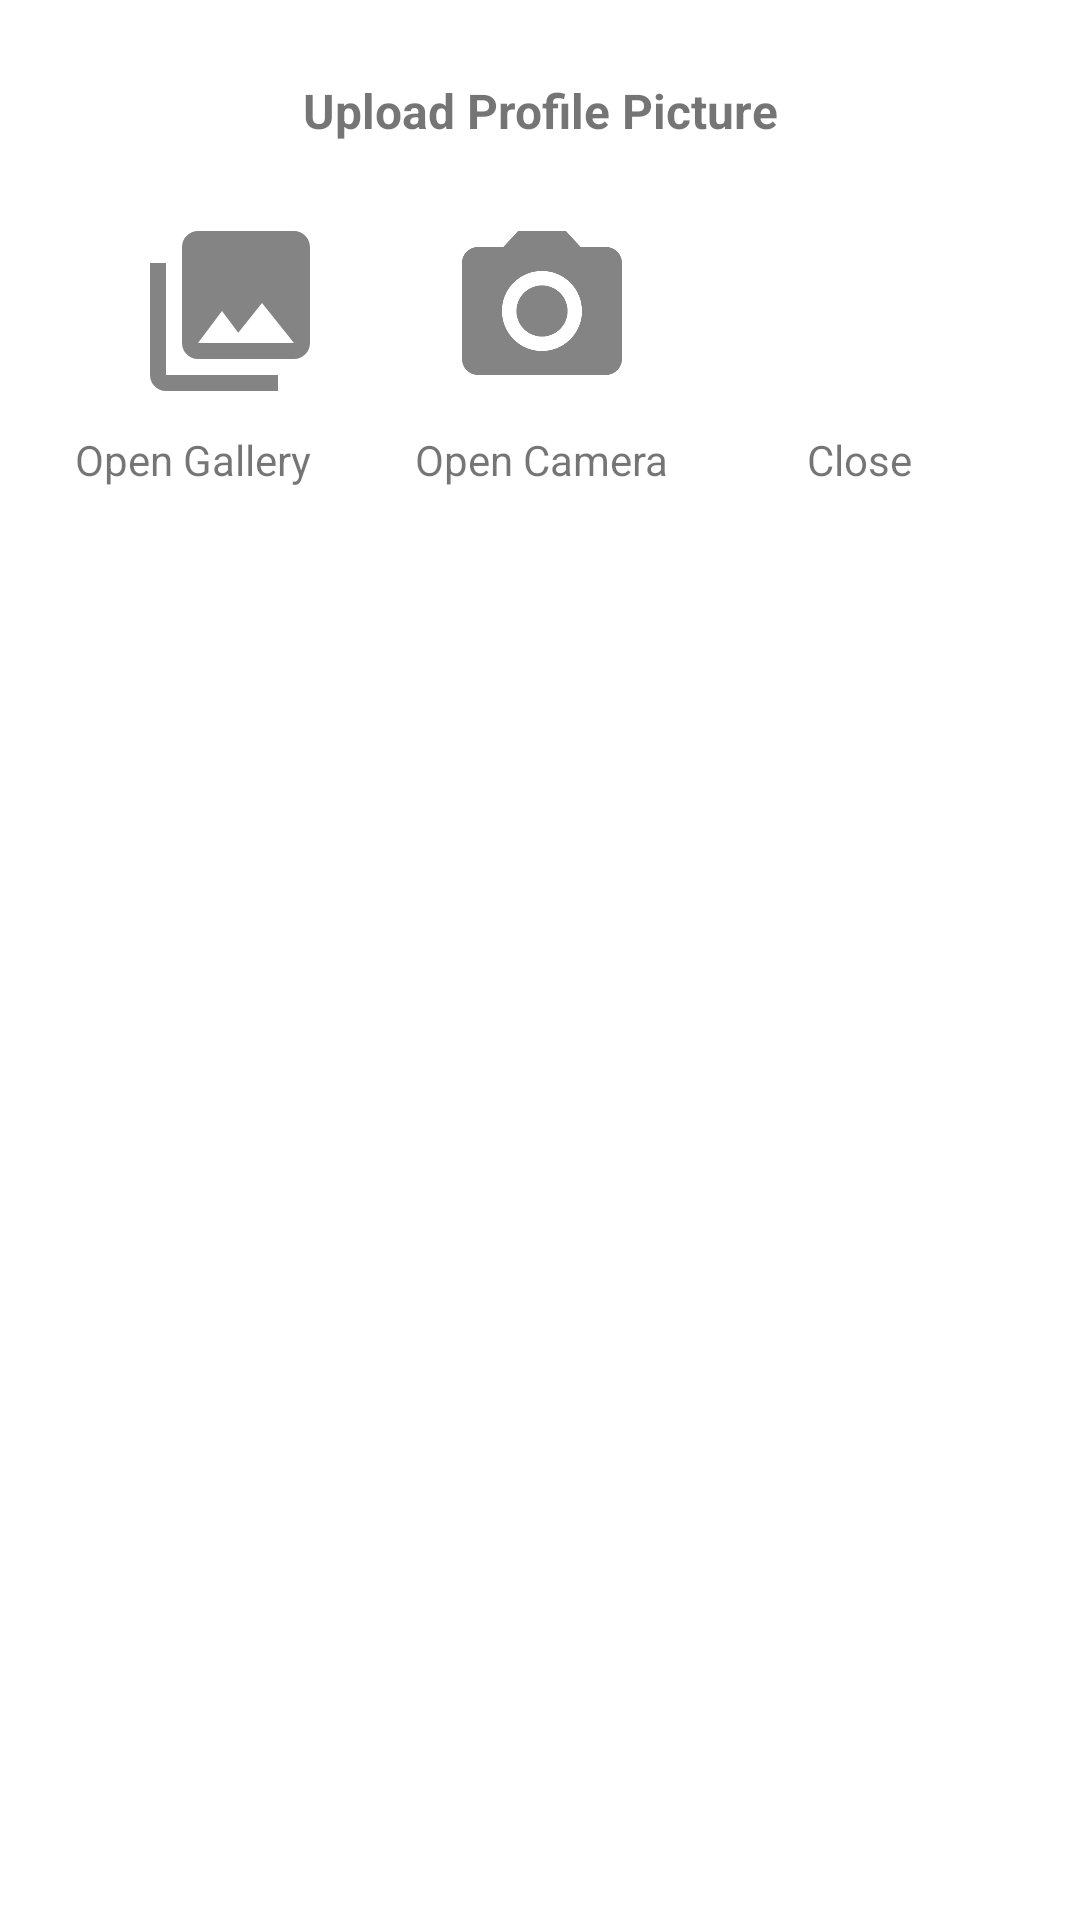

Icons on this 1080x1920 Android screen, each with the point to tap as (x,y):
photo library: (230,311)
